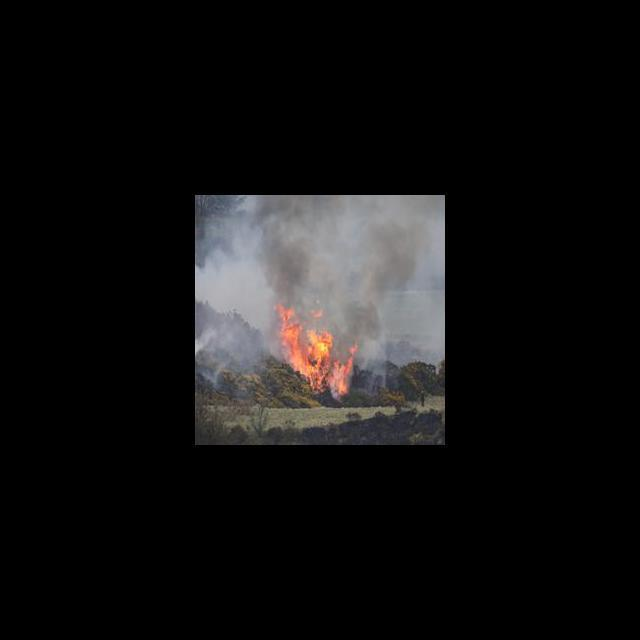Fire: (272, 297, 359, 398)
Smoke: (195, 195, 444, 296), (359, 295, 444, 400), (195, 296, 272, 402)
